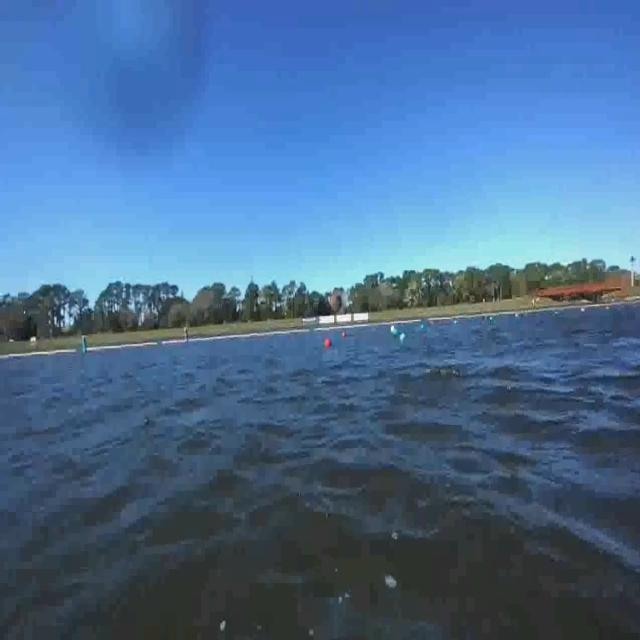red-buoy: (323, 334, 335, 350)
